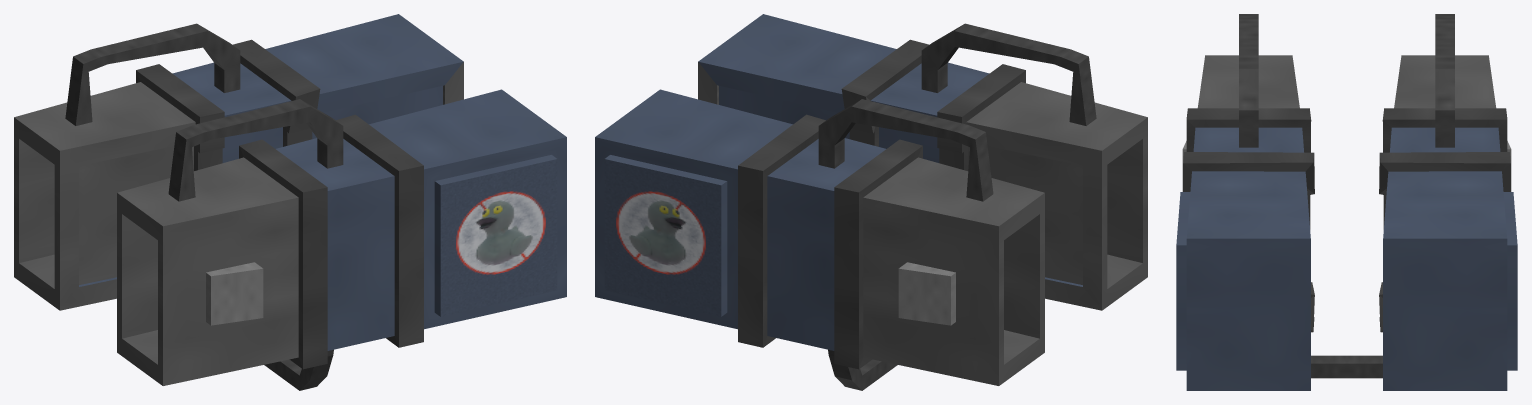
File: double_gun.fbx
3 renders of one model, left to right at view 1: azimuth 30°, elevation 25°; view 2: azimuth 150°, elevation 25°; view 3: azimuth 270°, elevation 25°, orthographic. The views are drawn at different scales.
Parts seen in each view (by area): view 1: doubleGun; view 2: doubleGun; view 3: doubleGun.
Boxes of the visible parts, left/top/right/bottom form: doubleGun: left=14, top=14, right=566, bottom=390; doubleGun: left=595, top=14, right=1147, bottom=390; doubleGun: left=1176, top=14, right=1517, bottom=390.
Bounding box in the file's own units: 58.57 × 43.75 × 46.09.
